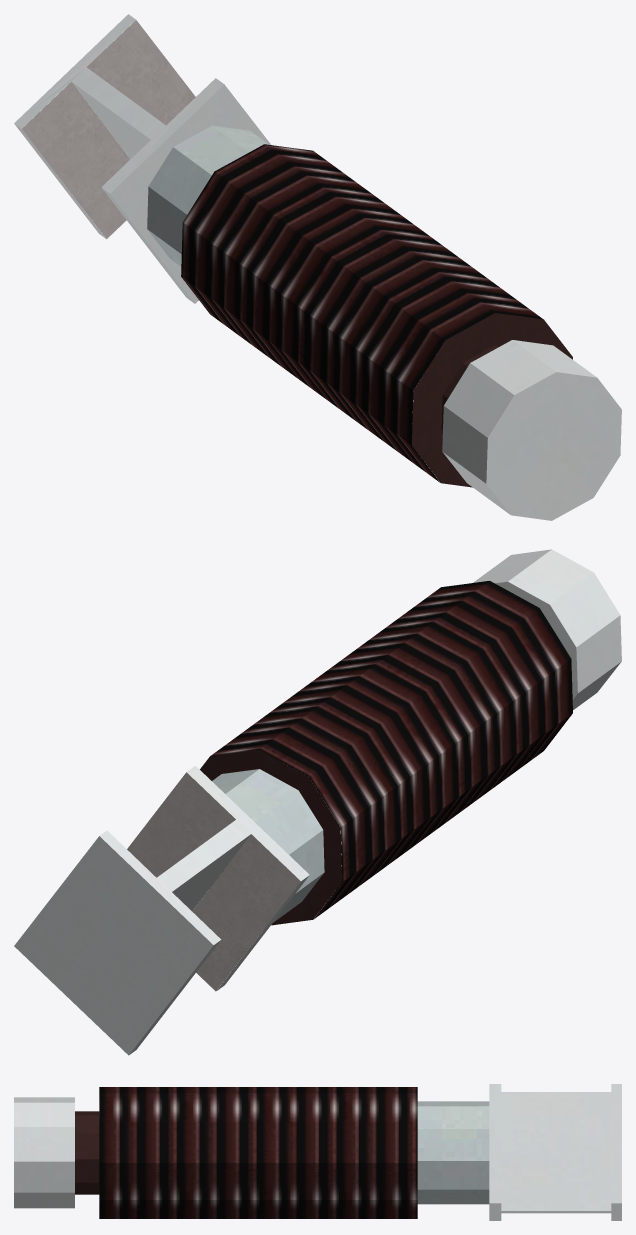
Rendered from jyzz006-geode.glb.
3 renders of one model, top to bottom at view 1: azimuth 30°, elevation 25°; view 2: azimuth 150°, elevation 25°; view 3: azimuth 270°, elevation 25°, orthographic. The views are drawn at different scales.
Parts seen in each view (by area): view 1: Node; view 2: Node; view 3: Node.
Boxes of the visible parts, box(x1,y1,x2,y2) form: Node: box(14, 14, 621, 520); Node: box(14, 549, 621, 1055); Node: box(14, 1084, 621, 1220).
Bounding box in the file's own units: 0.1689 × 0.1717 × 0.6449.
Materials: 5 (5 with a texture image).
